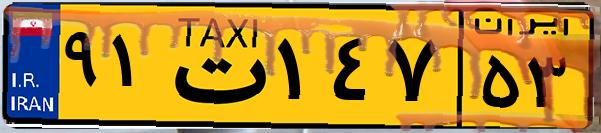1: (270, 28, 330, 110), (110, 28, 158, 98)
3: (525, 38, 570, 115)
4: (330, 28, 385, 110)
5: (475, 38, 525, 113)
7: (385, 28, 445, 110)
9: (57, 26, 110, 100)
ت: (158, 12, 270, 120)
